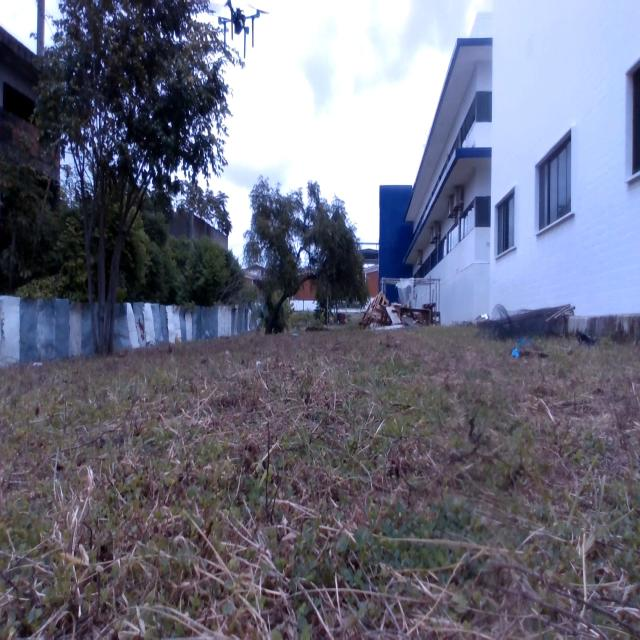-uav-: (203, 0, 274, 73)
